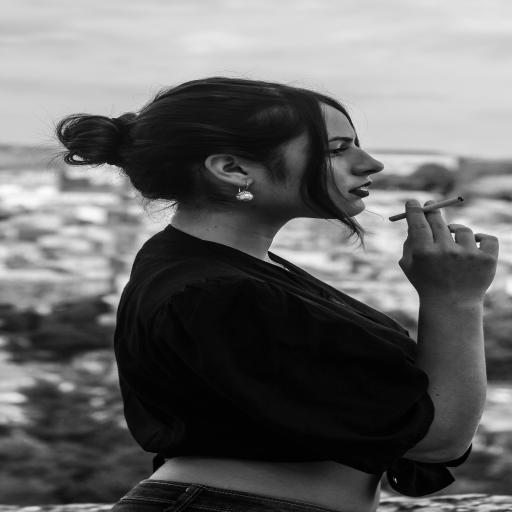terdeteksi pegang rokok: (369, 156, 510, 282)
